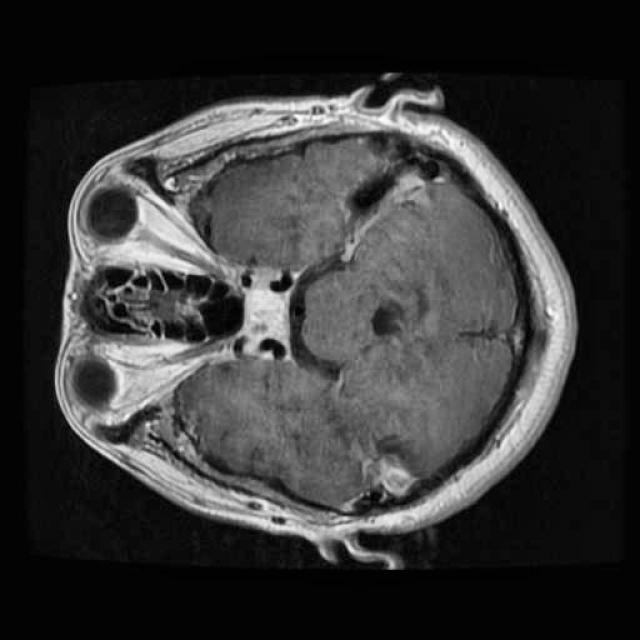Tumor: (228, 271, 298, 352)
